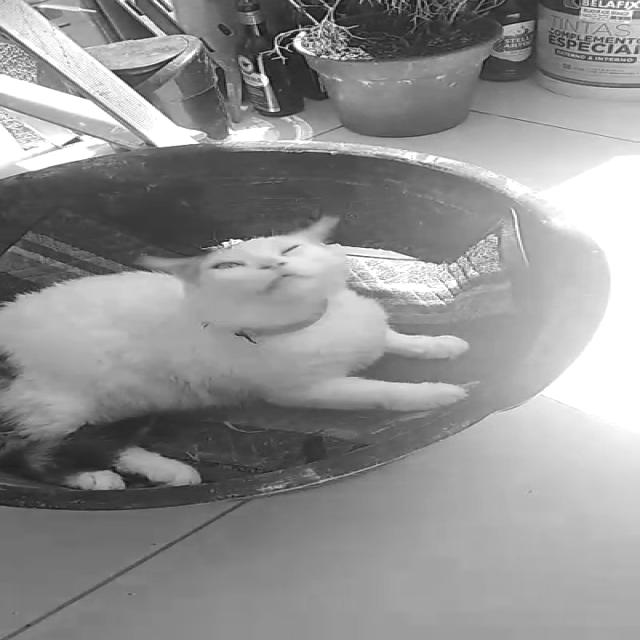Simba: (23, 210, 445, 453)
